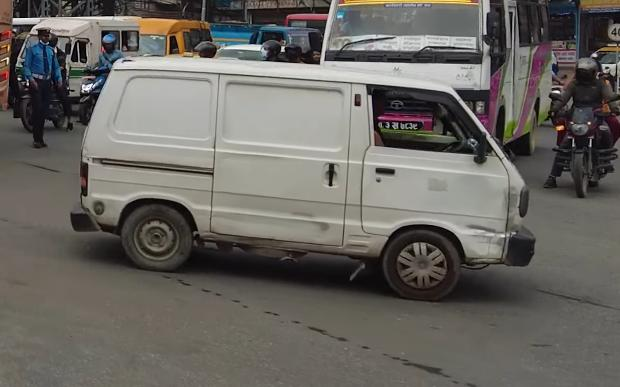bike: (15, 14, 142, 108)
van: (76, 48, 545, 304)
